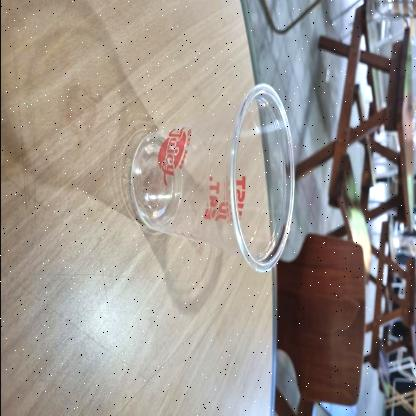Others: (128, 78, 300, 282)
